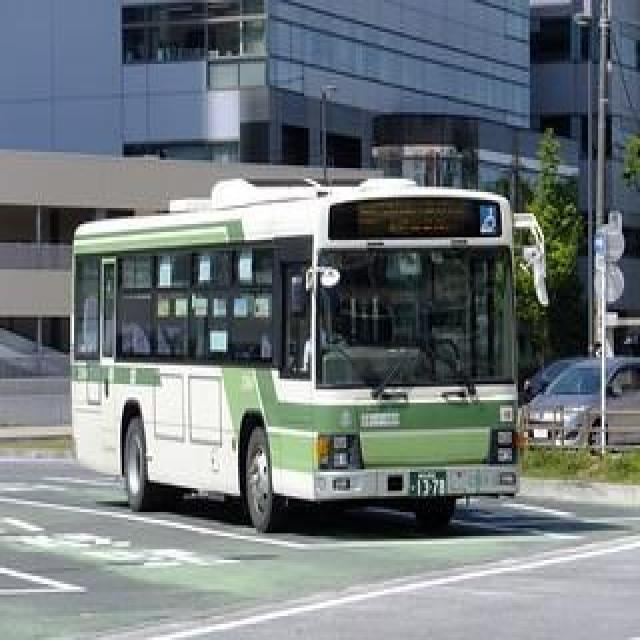Bus: (64, 173, 558, 538)
